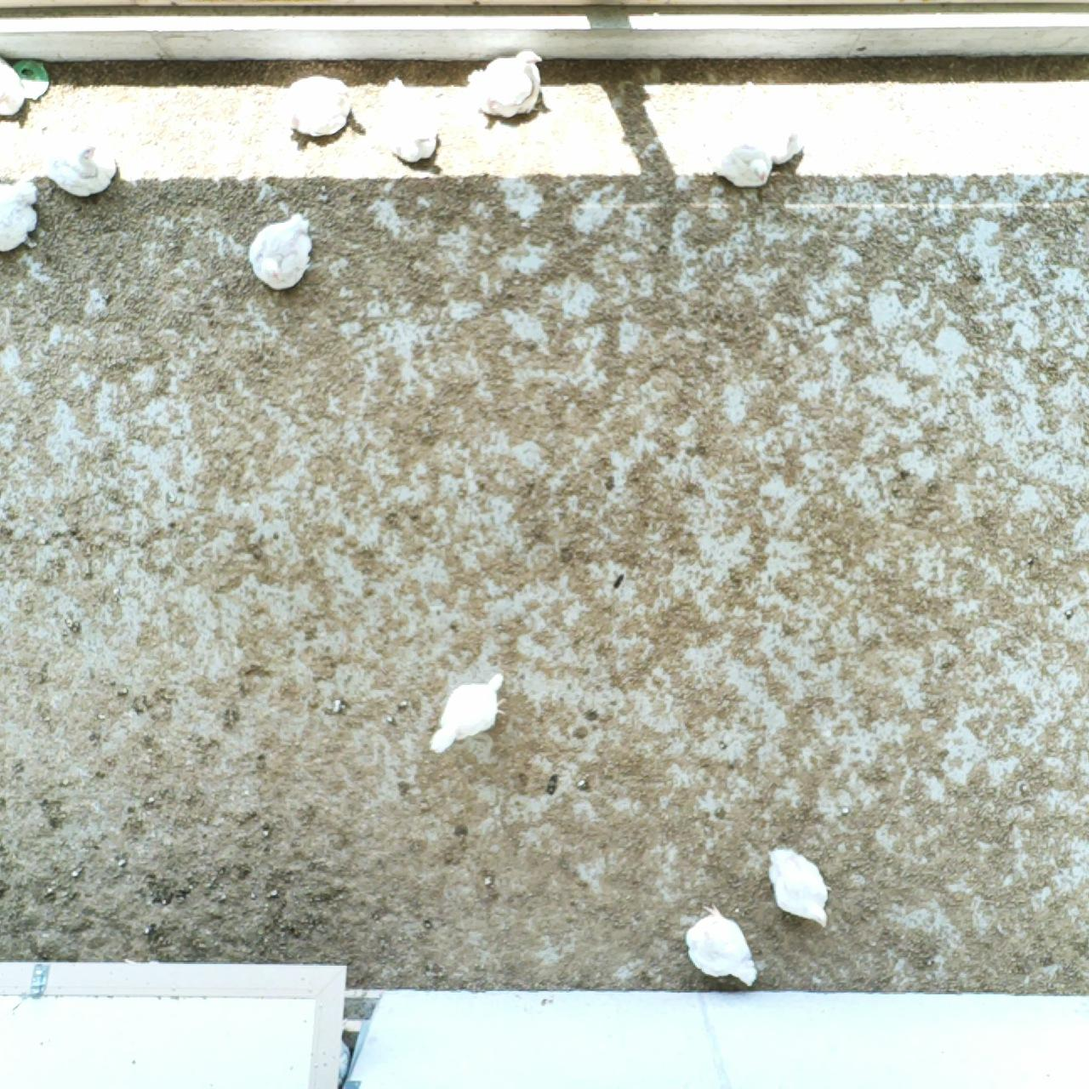chicken: (678, 901, 767, 991), (428, 667, 509, 757), (460, 47, 553, 125), (730, 78, 809, 168), (763, 839, 836, 935), (374, 72, 443, 165), (246, 210, 316, 293), (277, 73, 357, 144), (42, 128, 120, 198), (704, 124, 778, 190), (0, 173, 43, 258), (0, 54, 28, 120)
